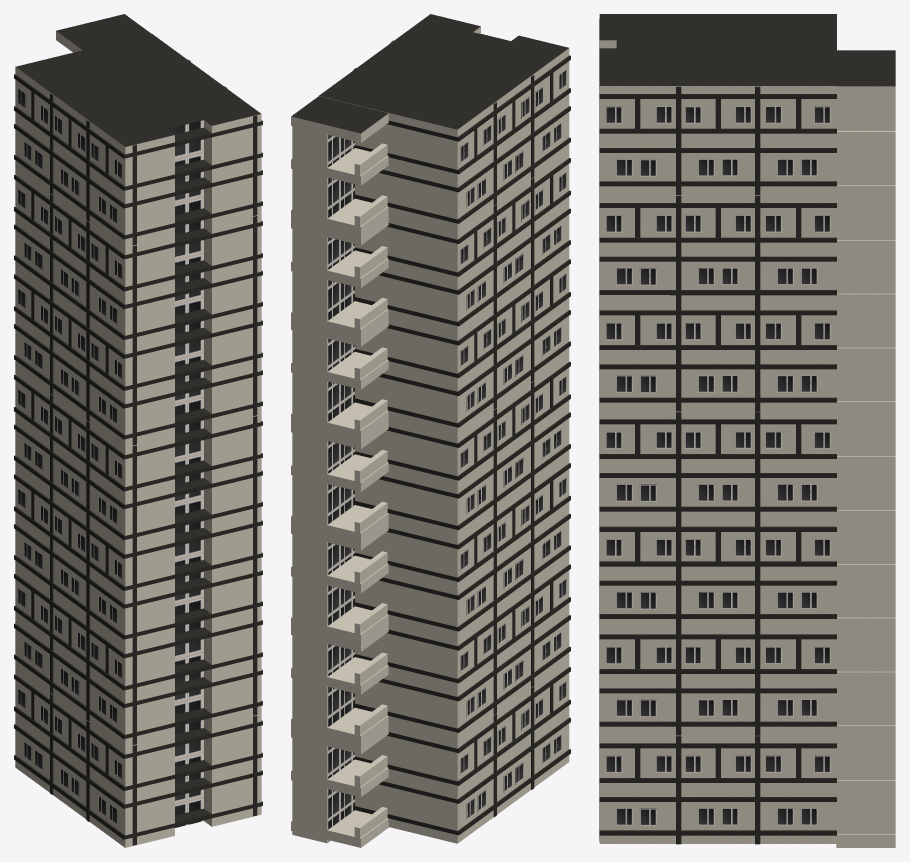
Rendered from obswing.gltf.
The picture shows the model from 3 angles, left to right: view 1: azimuth 30°, elevation 25°; view 2: azimuth 150°, elevation 25°; view 3: azimuth 270°, elevation 25°; orthographic projection. The views are drawn at different scales.
Visible parts, largest first — view 1: Obs_wing5_StaticMeshComponent0; view 2: Obs_wing5_StaticMeshComponent0; view 3: Obs_wing5_StaticMeshComponent0.
Boxes of the visible parts, x1=… form: Obs_wing5_StaticMeshComponent0: x1=14, y1=14, x2=262, y2=847; Obs_wing5_StaticMeshComponent0: x1=291, y1=14, x2=570, y2=847; Obs_wing5_StaticMeshComponent0: x1=599, y1=14, x2=895, y2=847.
Size of the model in its own units: 13.17 by 63.79 by 22.46.
